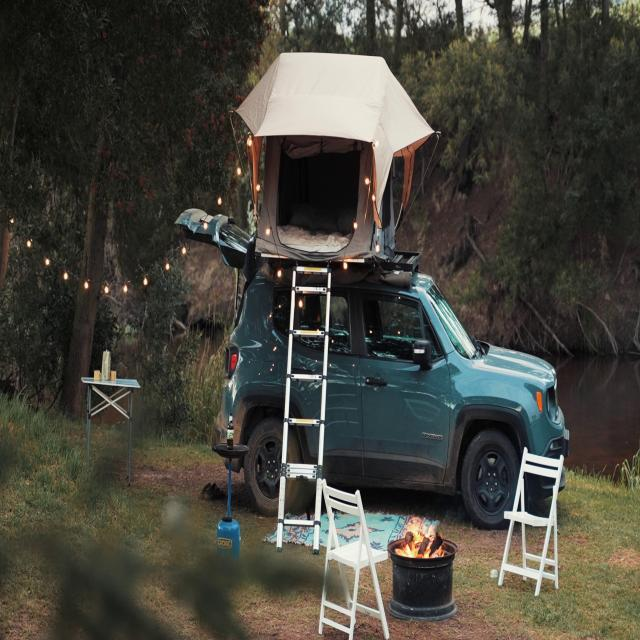Fire: (398, 508, 441, 560)
